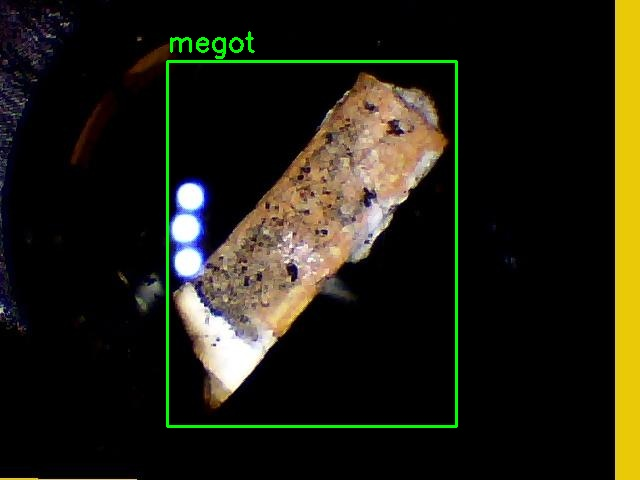megot: (167, 61, 456, 426)
